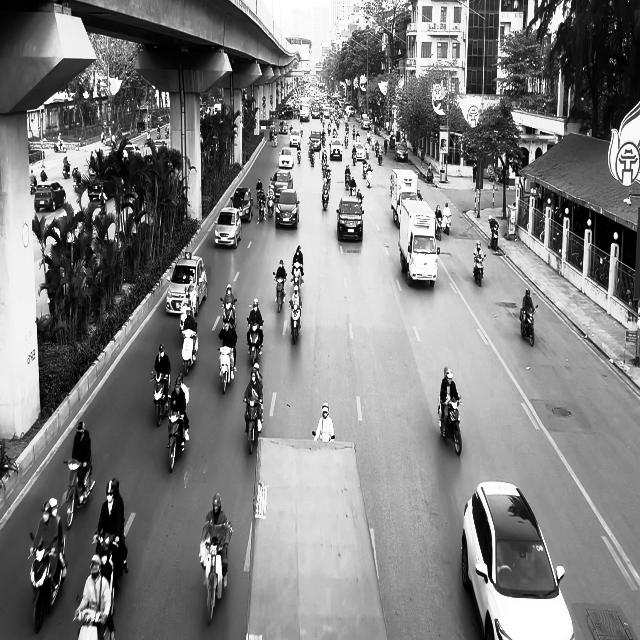car: (461, 480, 574, 640), (165, 252, 208, 316), (337, 195, 364, 242), (214, 207, 242, 248), (275, 188, 300, 229), (34, 182, 66, 212), (230, 186, 254, 222), (269, 170, 293, 200), (279, 147, 294, 169), (394, 142, 409, 162), (330, 137, 343, 160), (353, 142, 365, 160)
motorbike: (28, 531, 67, 633), (200, 521, 233, 624), (63, 458, 96, 529), (438, 396, 462, 456), (167, 410, 187, 472), (150, 371, 172, 426), (244, 396, 264, 454), (218, 345, 236, 394), (181, 327, 199, 375), (520, 304, 538, 346), (247, 318, 263, 365), (289, 300, 302, 344), (273, 272, 287, 312), (473, 253, 486, 286), (291, 262, 304, 290), (488, 221, 499, 251), (436, 216, 442, 240)
